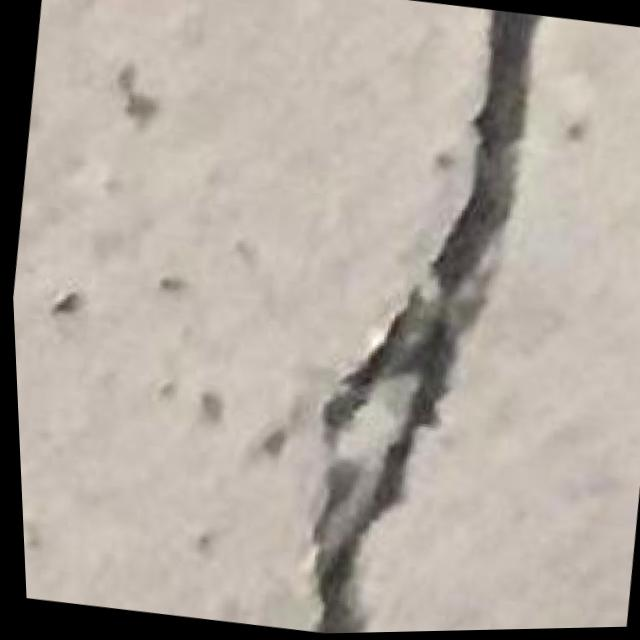Crack: (243, 0, 585, 636)
